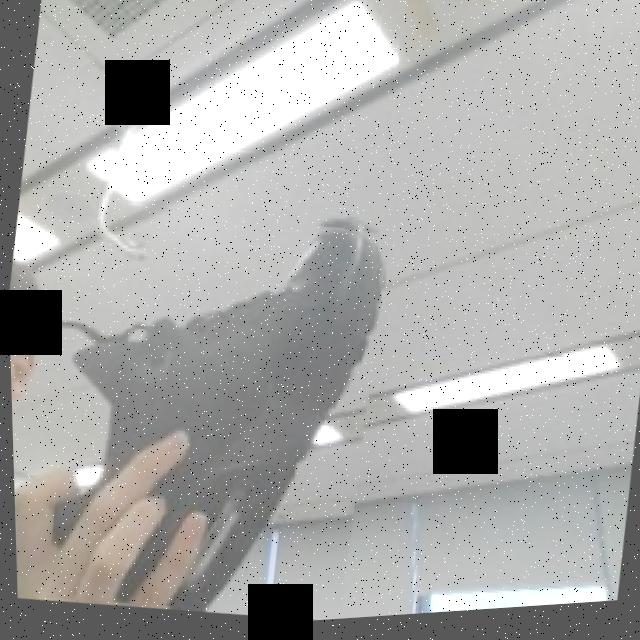shoe: (32, 184, 397, 639)
